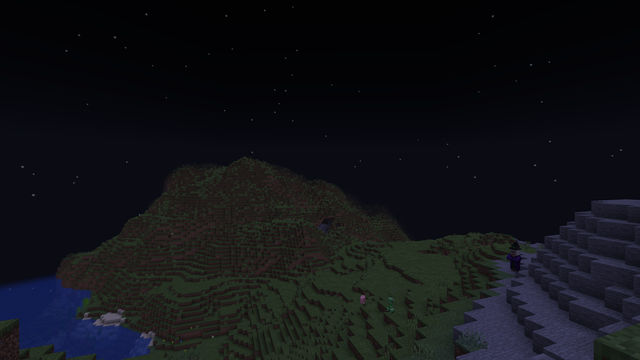cochons: (358, 294, 366, 303)
creepers: (387, 296, 393, 312)
sorcieres: (508, 247, 520, 273)
